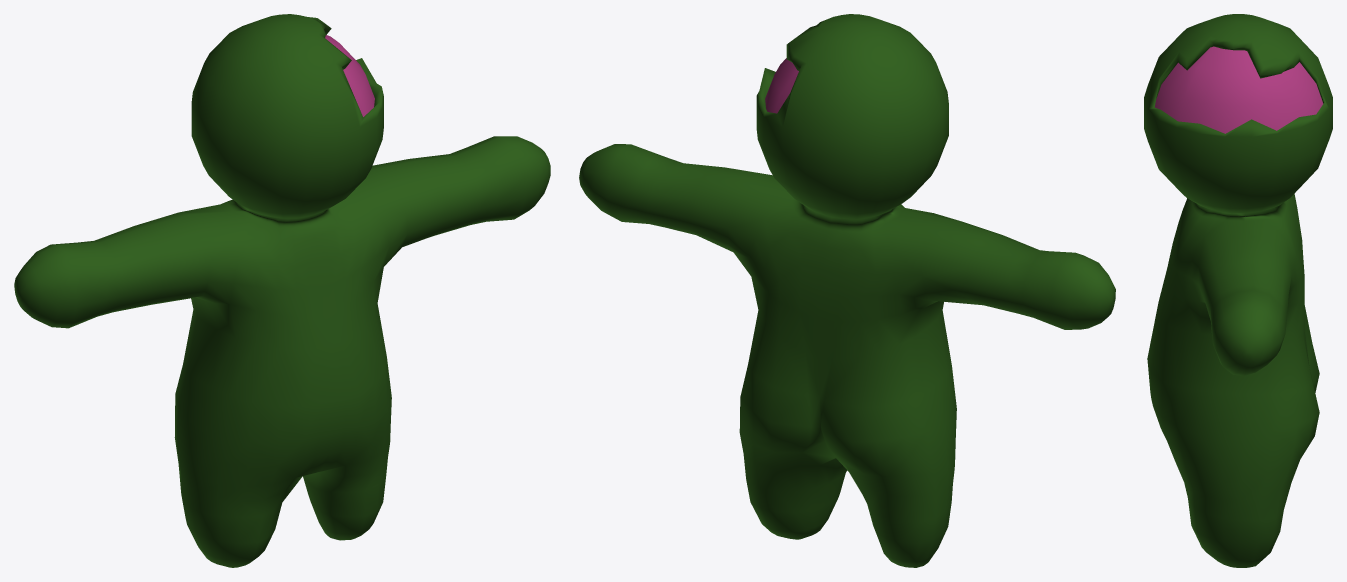
File: FEUDZombieNew.fbx
3 renders of one model, left to right at view 1: azimuth 30°, elevation 25°; view 2: azimuth 150°, elevation 25°; view 3: azimuth 270°, elevation 25°, orthographic. The views are drawn at different scales.
Visible parts, largest first — view 1: ZombeeBody, ZombeeBrain; view 2: ZombeeBody, ZombeeBrain; view 3: ZombeeBody, ZombeeBrain.
Boxes of the visible parts, x1=… form: ZombeeBody: x1=14, y1=14, x2=550, y2=567; ZombeeBrain: x1=325, y1=35, x2=374, y2=116; ZombeeBody: x1=579, y1=14, x2=1115, y2=567; ZombeeBrain: x1=765, y1=58, x2=798, y2=113; ZombeeBody: x1=1144, y1=14, x2=1332, y2=567; ZombeeBrain: x1=1154, y1=46, x2=1323, y2=133.
Size of the model in its own units: 435 by 416 by 138.
